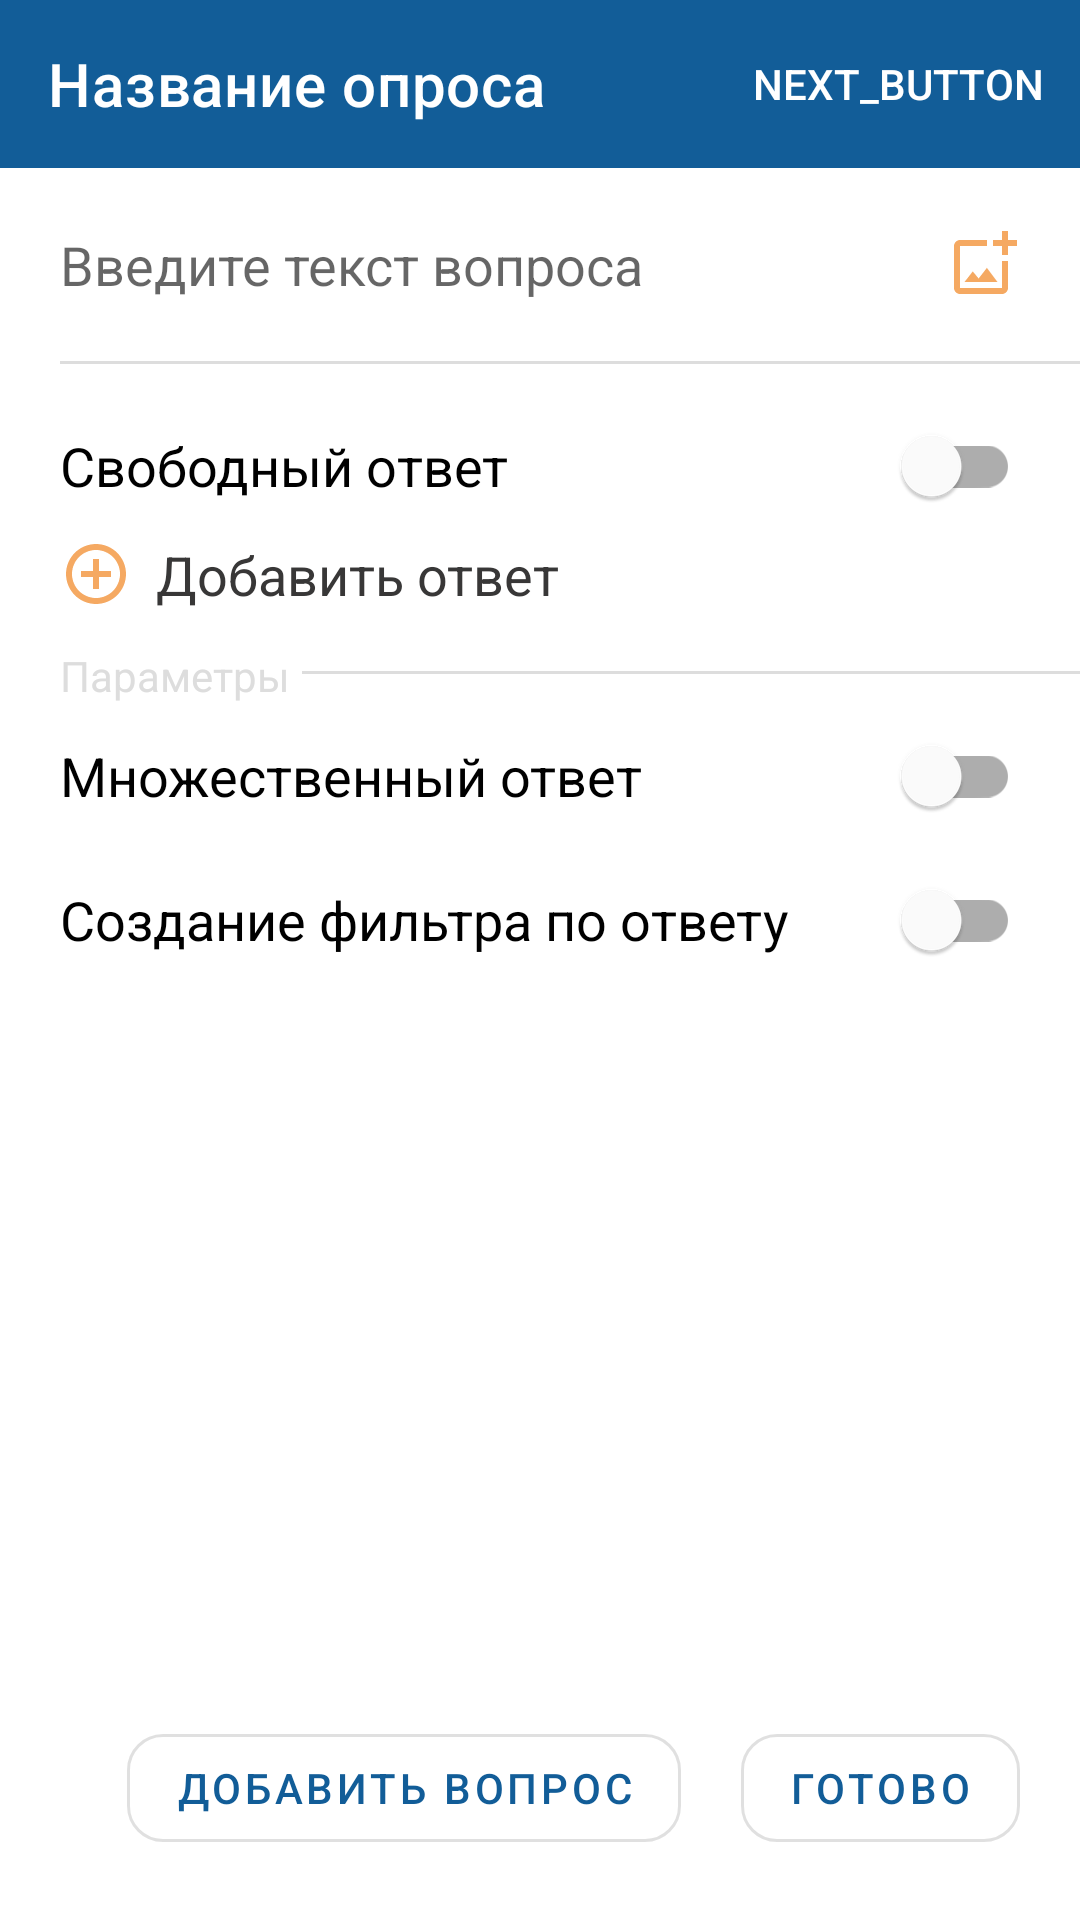

Named icons in this screenshot (1080 x 1920) and their centers, (x,y):
add circle: (96,574)
add photo alternate: (985,262)
